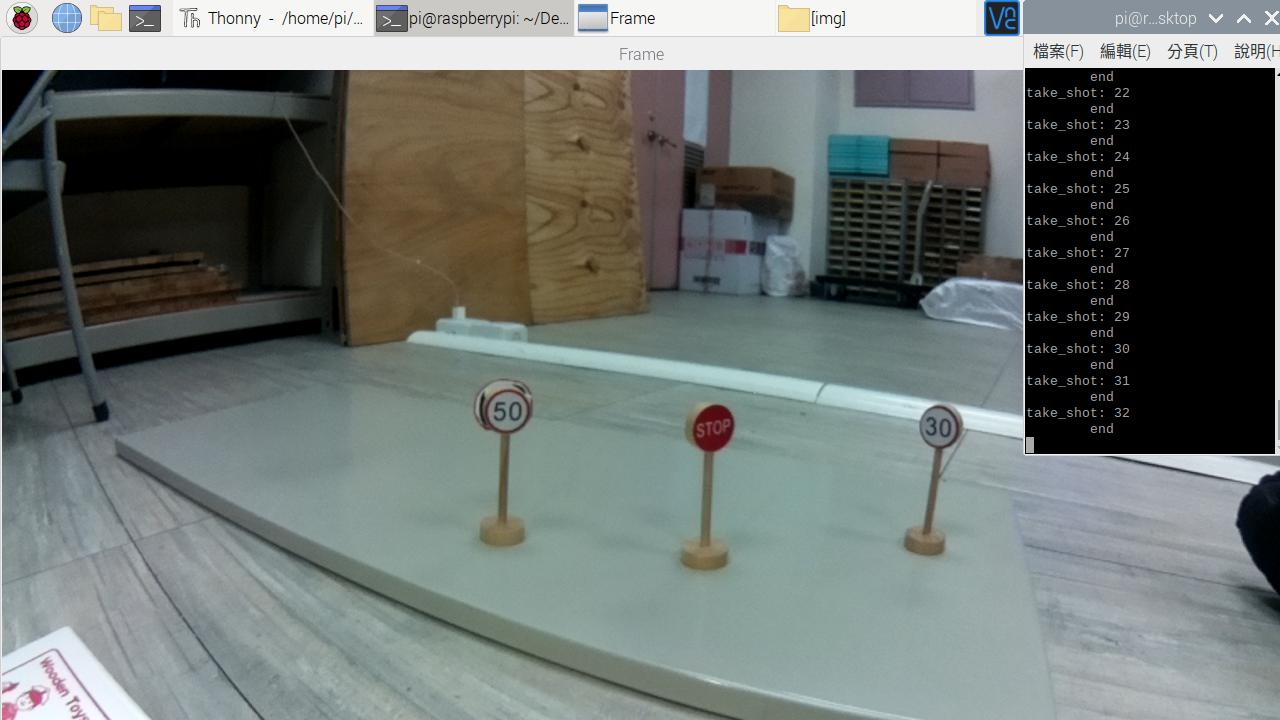Speed30: (920, 404, 959, 447)
Speed50: (483, 386, 527, 431)
Stop: (685, 403, 736, 448)
